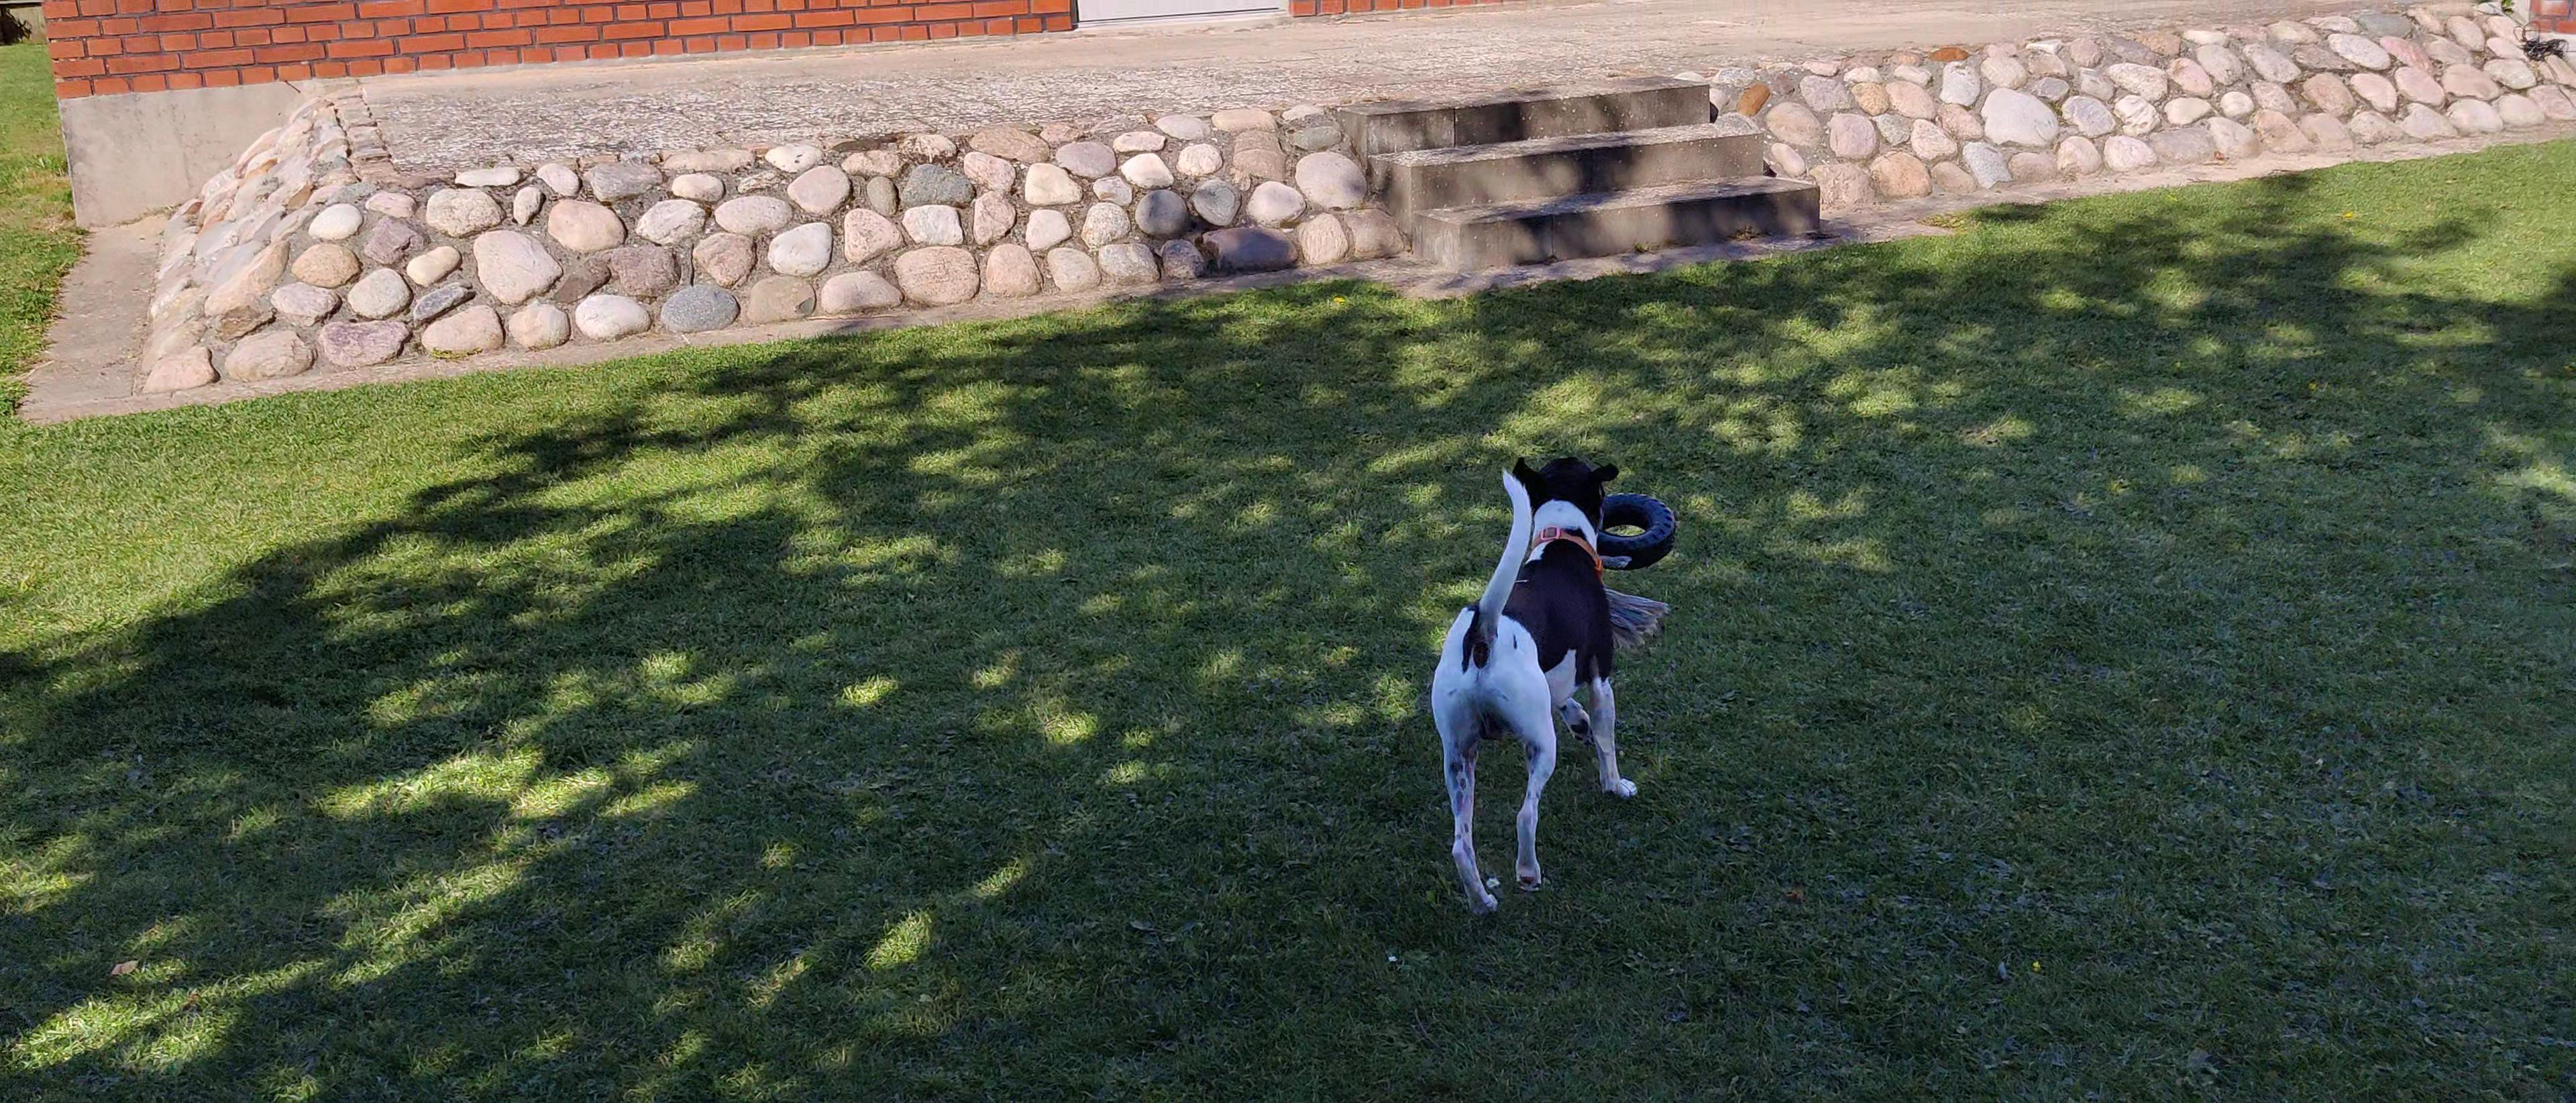Dog: (1421, 445, 1643, 921)
